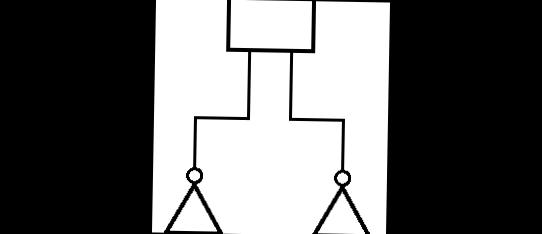nand: (221, 0, 319, 57)
not: (306, 163, 376, 234), (159, 161, 228, 233)
